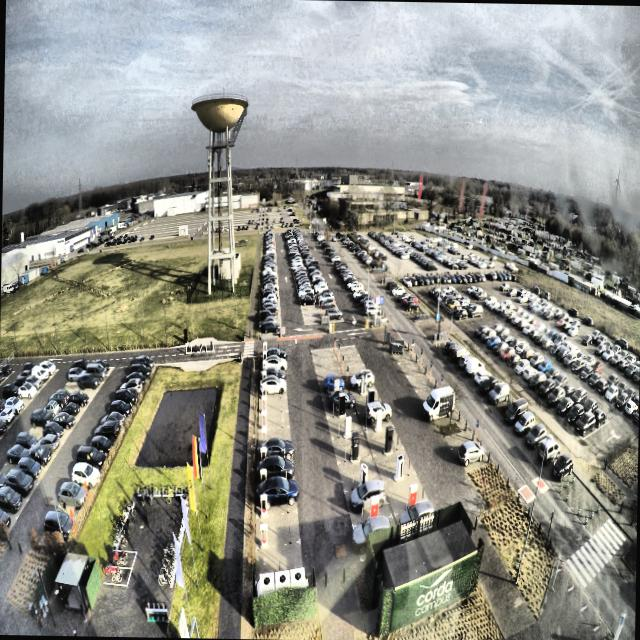cabinet: (259, 567, 305, 589)
car: (257, 476, 300, 512), (258, 454, 296, 484), (259, 436, 296, 462), (259, 375, 287, 395), (262, 354, 287, 371), (261, 366, 286, 380), (263, 347, 287, 361)
parking: (256, 540, 303, 582), (256, 510, 299, 548), (256, 484, 297, 516), (257, 464, 295, 489), (257, 443, 293, 468), (258, 427, 291, 448), (258, 412, 289, 430), (259, 382, 287, 400), (259, 397, 288, 413), (260, 357, 285, 370), (260, 368, 285, 380), (260, 349, 284, 361)
supercharger: (259, 523, 268, 548), (260, 494, 267, 517), (260, 469, 267, 485), (260, 447, 266, 464), (261, 428, 267, 443), (261, 411, 266, 428), (261, 396, 266, 409), (262, 350, 267, 361), (262, 340, 267, 351), (262, 383, 266, 396), (262, 360, 267, 370), (262, 371, 266, 382)
